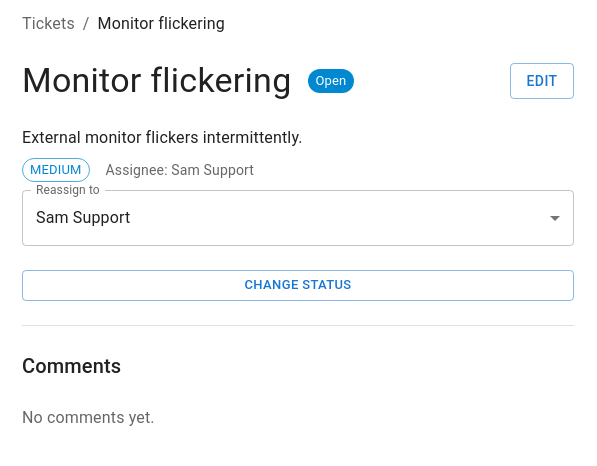
Automatic assignment and reassignment (FR-007–FR-012, FR-011a) › keeps the control open with an inline error when reassignment fails
What coordinates should you click on to do the following:
click the dropdown named "reassign to"
I would click on:
 (83, 218)
Its box is [36,208,130,228].
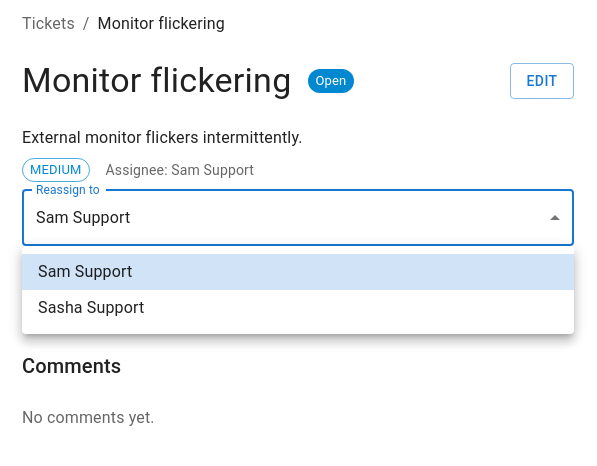
What coordinates should you click on to do the following:
click the option "Sasha Support"
I would click on:
 (91, 308)
Its box is [38,298,144,317].
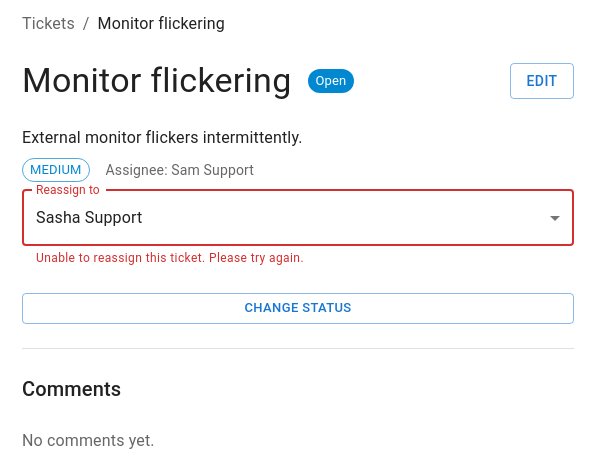
Now the text "Unable to reassign this ticket. Please try again." is shown, box [36,251,304,265]
